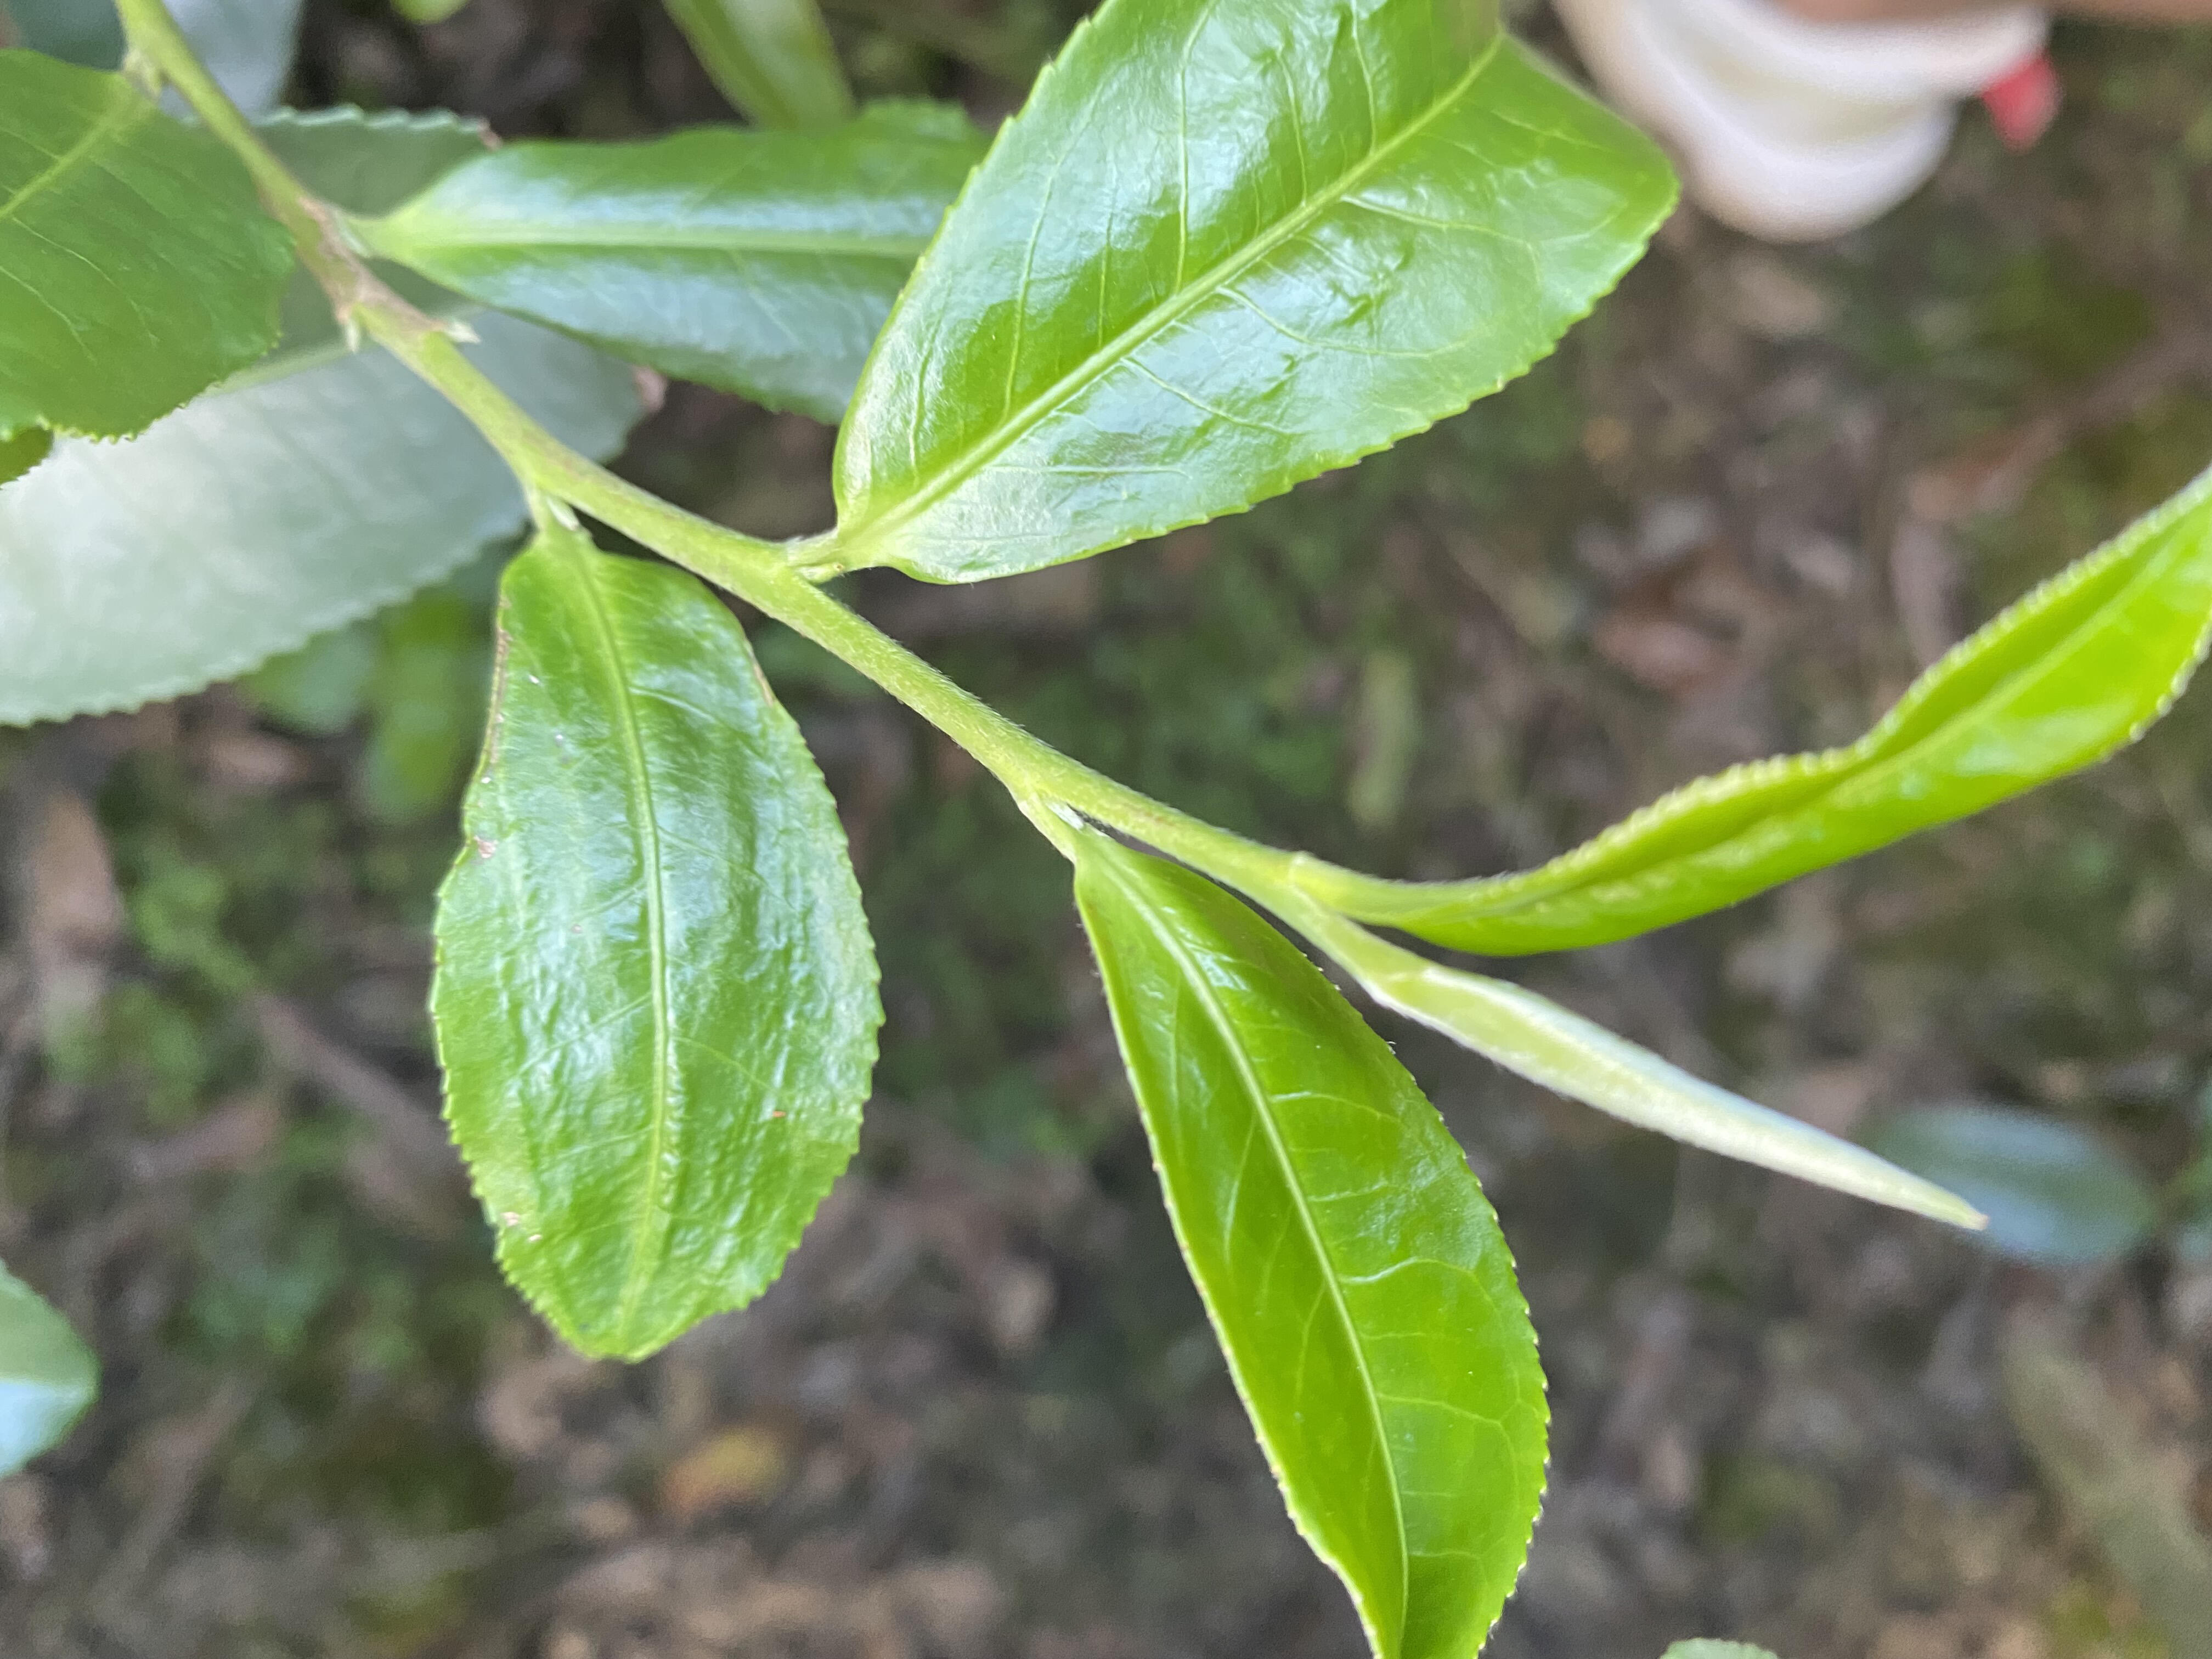healthy: (824, 5, 1684, 586), (1069, 849, 1554, 1657)
tanju_low: (420, 525, 888, 1370)
